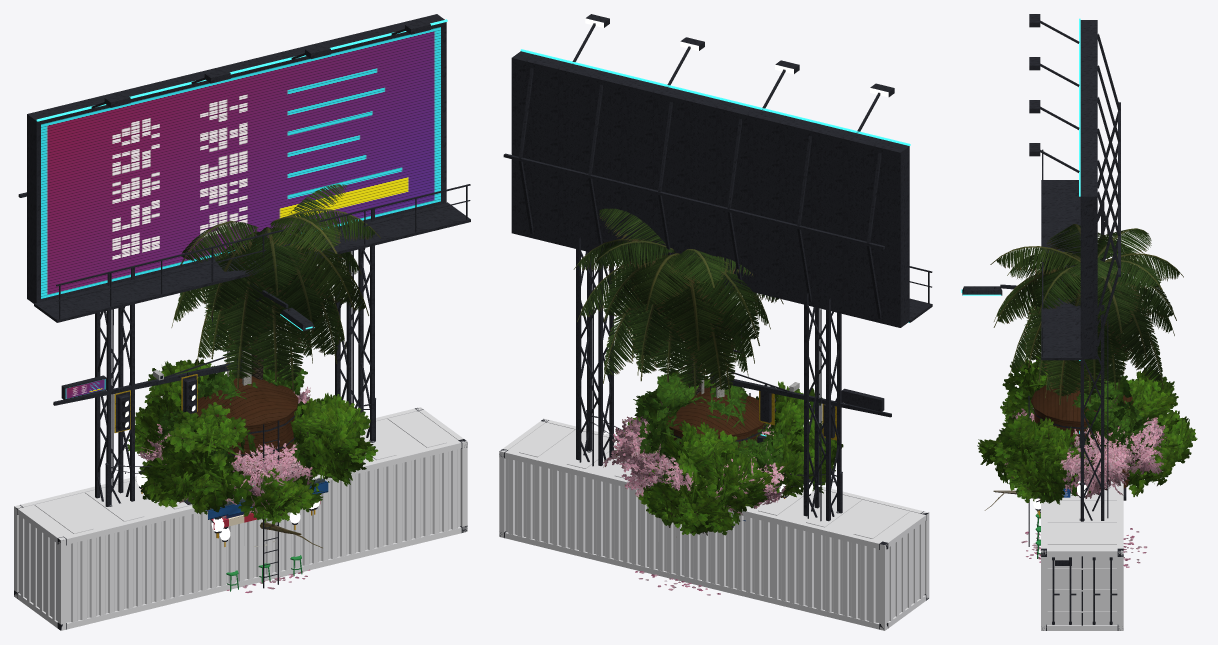
Rendered from props.glb.
3 views of the same model, side by side, from view 1: azimuth 30°, elevation 25°; view 2: azimuth 150°, elevation 25°; view 3: azimuth 270°, elevation 25° (orthographic). The views are drawn at different scales.
Visible parts, largest first — view 1: billboard, container, tree_palm, tree_park_b, water_tank, traffic_light, tree_sakura, tree_park, market_stall_b, lamp_street; view 2: billboard, container, tree_palm, tree_park_b, tree_park, tree_sakura, water_tank, traffic_light; view 3: billboard, tree_palm, tree_park_b, container, tree_sakura, tree_park, water_tank, lamp_street.
Part boxes in pixels (x1,y1,x2,y2): billboard: (18, 14, 470, 506); container: (14, 407, 467, 630); tree_palm: (171, 184, 380, 391); tree_park_b: (125, 359, 378, 548); water_tank: (196, 374, 298, 588); traffic_light: (53, 350, 243, 432); tree_sakura: (137, 386, 312, 592); tree_park: (156, 349, 312, 479); market_stall_b: (206, 471, 328, 538); lamp_street: (241, 280, 314, 350); billboard: (503, 14, 932, 521); container: (499, 418, 929, 630); tree_palm: (573, 208, 783, 398); tree_park_b: (627, 371, 843, 536); tree_park: (633, 371, 786, 483); tree_sakura: (602, 416, 790, 595); water_tank: (666, 387, 767, 527); traffic_light: (710, 371, 891, 440); billboard: (1029, 14, 1120, 520); tree_palm: (990, 224, 1183, 405); tree_park_b: (977, 354, 1197, 510); container: (1041, 479, 1123, 630); tree_sakura: (999, 408, 1167, 567); tree_park: (1026, 367, 1153, 464); water_tank: (1028, 381, 1133, 546); lamp_street: (961, 284, 1027, 295).
Size of the model in its own units: 12.41 by 14.98 by 7.13.
21 materials, 13 textured.
